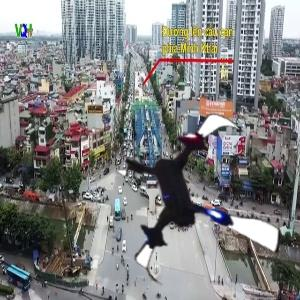drone: (105, 108, 294, 297)
